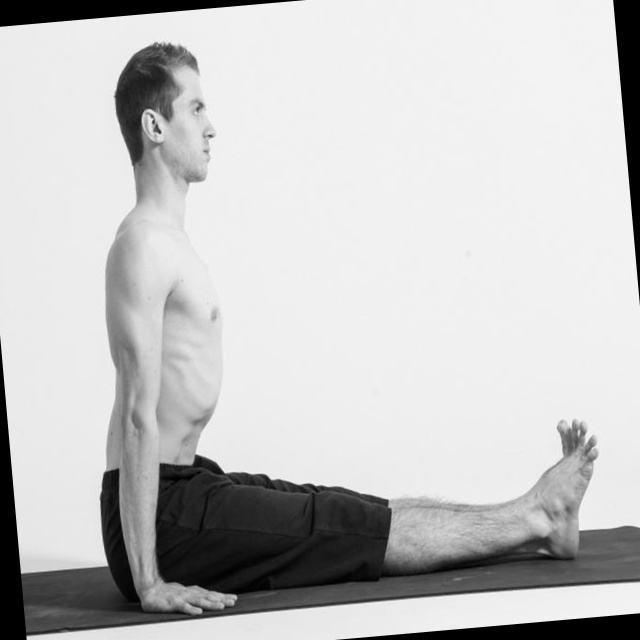Staff_Pose: (98, 43, 601, 616)
